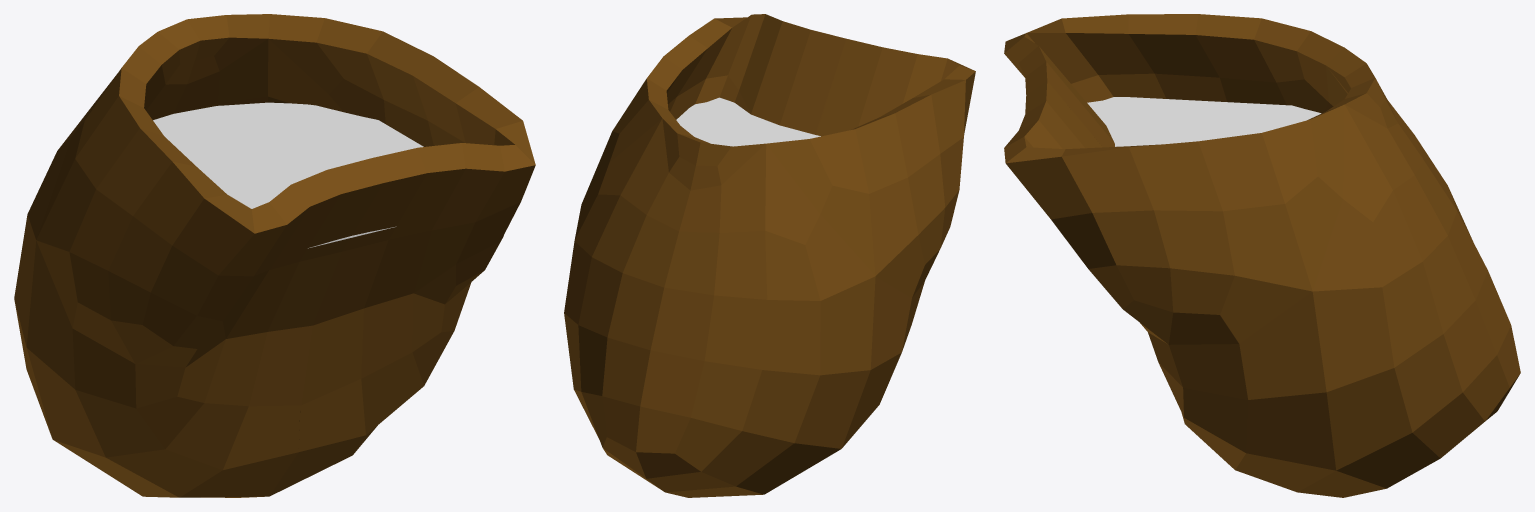
Rendered from Bag.fbx.
3 renders of one model, left to right at view 1: azimuth 30°, elevation 25°; view 2: azimuth 150°, elevation 25°; view 3: azimuth 270°, elevation 25°, orthographic. The views are drawn at different scales.
Parts seen in each view (by area): view 1: Plane, Plane.001; view 2: Plane, Plane.001; view 3: Plane, Plane.001.
Boxes of the visible parts, <box> form: Plane: <box>14,14,535,497</box>; Plane.001: <box>153,102,423,248</box>; Plane: <box>564,14,975,497</box>; Plane.001: <box>676,97,820,146</box>; Plane: <box>1004,14,1520,497</box>; Plane.001: <box>1087,97,1321,146</box>.
Size of the model in its own units: 171 by 189 by 219.
